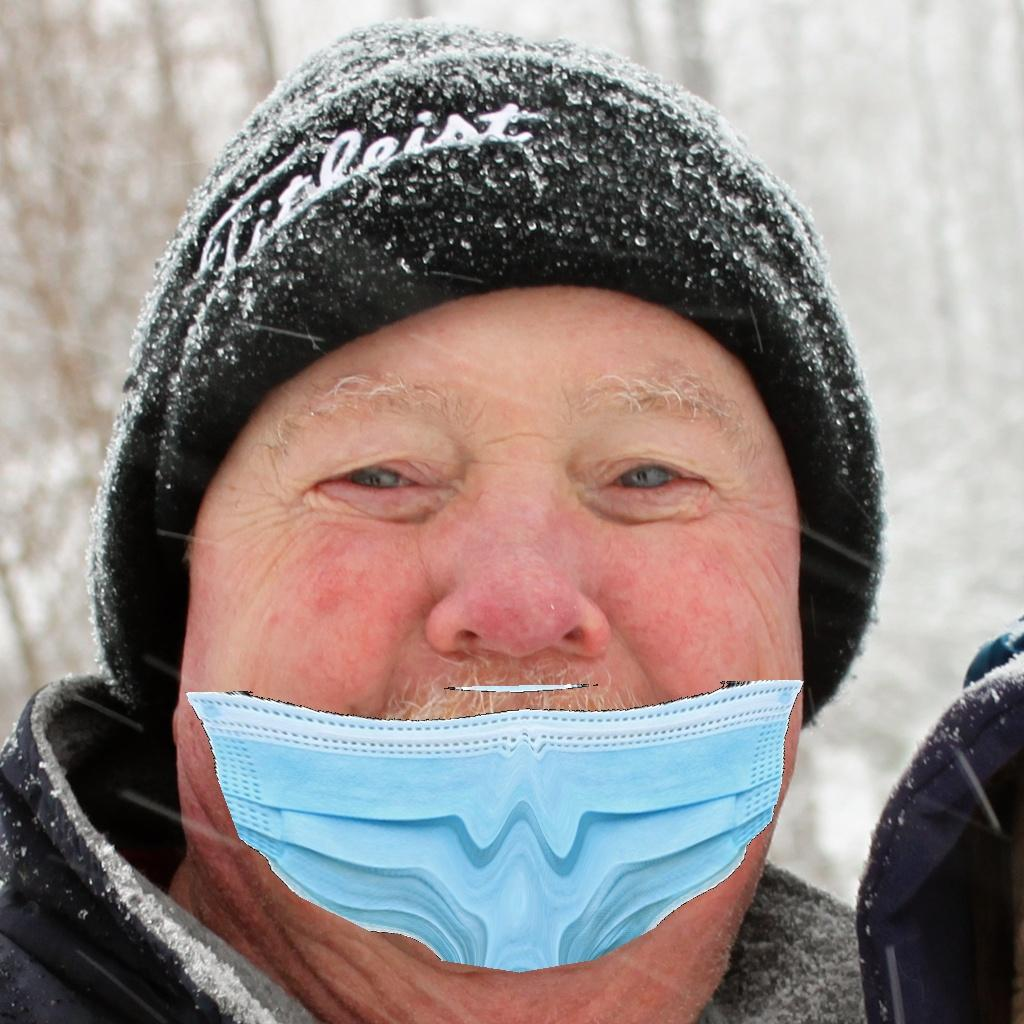Máscara Incorreta: (205, 340, 810, 960)
